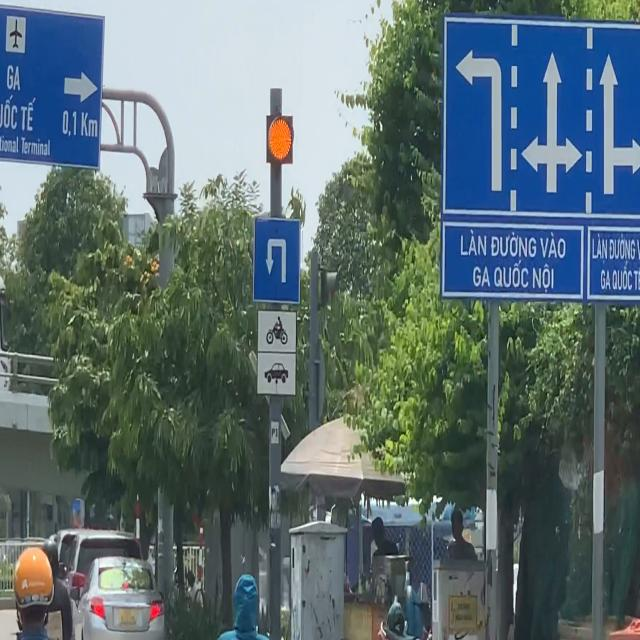Chi dan: (253, 216, 300, 309)
